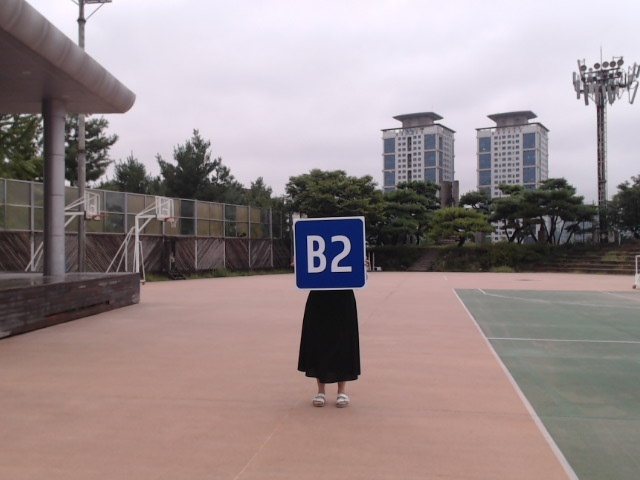delivery_b2: (294, 218, 366, 290)
